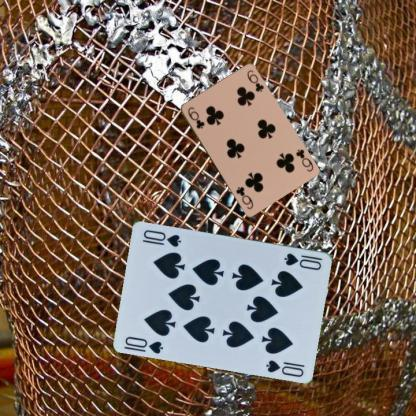10s: (282, 250, 324, 272), (122, 333, 164, 355)
6c: (292, 146, 314, 173), (185, 104, 206, 130)
